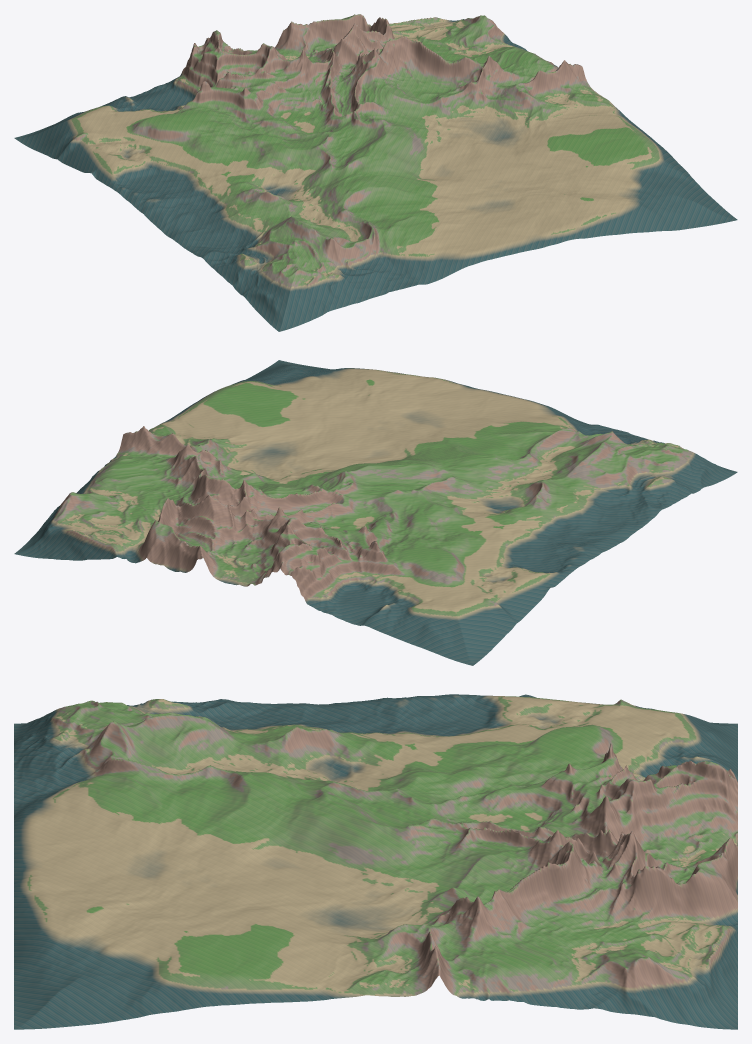
Rendered from terrain.glb.
The picture shows the model from 3 angles, top to bottom: view 1: azimuth 30°, elevation 25°; view 2: azimuth 150°, elevation 25°; view 3: azimuth 270°, elevation 25°; orthographic projection. The views are drawn at different scales.
Visible parts, largest first — view 1: Terrain; view 2: Terrain; view 3: Terrain.
Boxes of the visible parts, x1,y1,x2,y2 form: Terrain: (14,14,737,331); Terrain: (14,360,737,665); Terrain: (14,694,737,1029).
Bounding box in the file's own units: 2048 × 294 × 2048.
